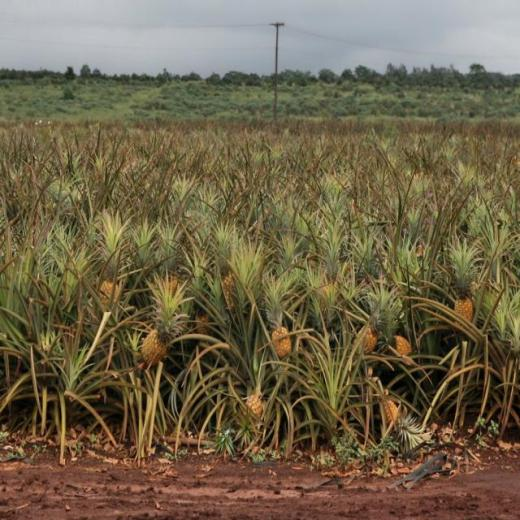Mango: (1, 171, 520, 432)
